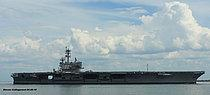MIL_Ship: (8, 48, 206, 85)
